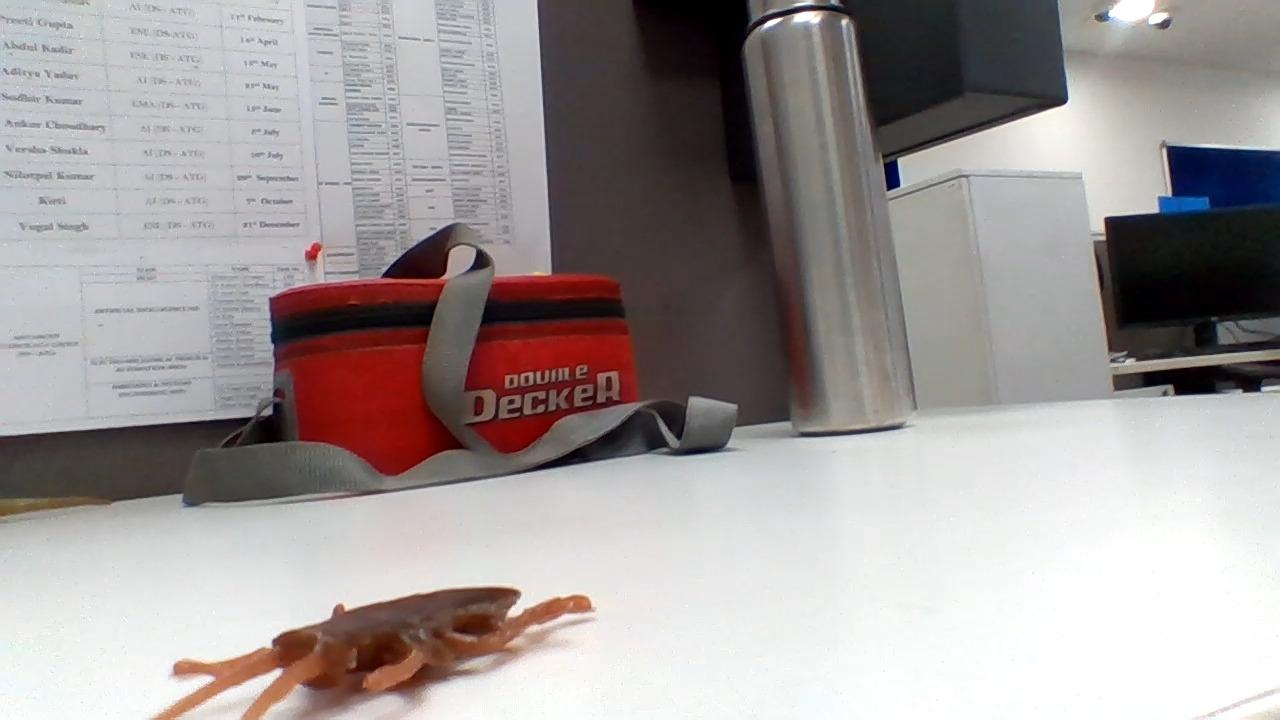cockroach: (130, 581, 595, 720)
